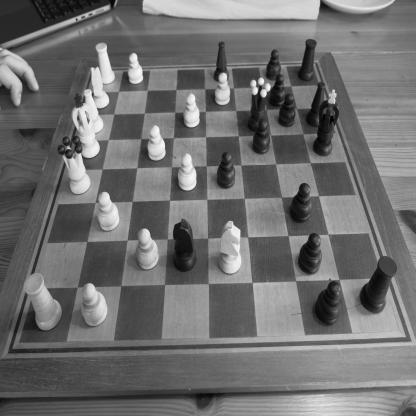black-bishop: (306, 80, 329, 130), (212, 38, 231, 83)
black-king: (314, 93, 346, 163)
black-knight: (169, 216, 196, 274)
black-pawn: (310, 280, 345, 330), (297, 233, 324, 279), (289, 181, 313, 228), (214, 150, 238, 190), (250, 119, 275, 156), (276, 93, 299, 127), (264, 49, 284, 82), (272, 72, 291, 104)
black-queen: (247, 76, 272, 134)
black-rook: (358, 254, 398, 313), (298, 39, 318, 83)
white-bishop: (79, 90, 105, 136)
white-king: (68, 92, 102, 164)
white-knight: (218, 220, 245, 275), (86, 64, 110, 112)
white-pawn: (81, 283, 110, 331), (134, 227, 161, 274), (96, 189, 122, 233), (176, 154, 202, 193), (144, 126, 167, 164), (182, 92, 202, 130), (125, 51, 146, 87), (212, 72, 232, 108)
white-queen: (57, 135, 92, 196)
white-rook: (22, 271, 63, 334), (96, 42, 116, 86)
